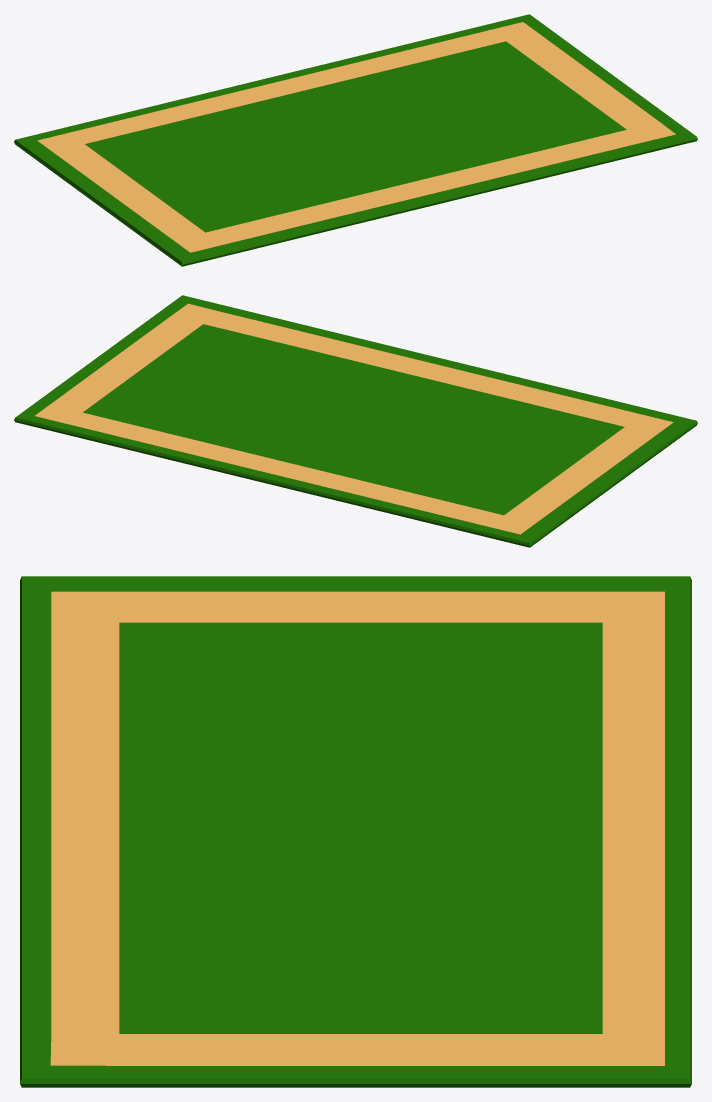
The model's file is Carpet_1B.fbx.
The picture shows the model from 3 angles, top to bottom: view 1: azimuth 30°, elevation 25°; view 2: azimuth 150°, elevation 25°; view 3: azimuth 270°, elevation 25°; orthographic projection. The views are drawn at different scales.
Visible parts, largest first — view 1: pCube1666; view 2: pCube1666; view 3: pCube1666.
Part boxes in pixels (<box>): pCube1666: <box>14,14,697,266</box>; pCube1666: <box>14,295,697,547</box>; pCube1666: <box>20,576,691,1087</box>.
Bounding box in the file's own units: 229 × 2.01 × 129.
